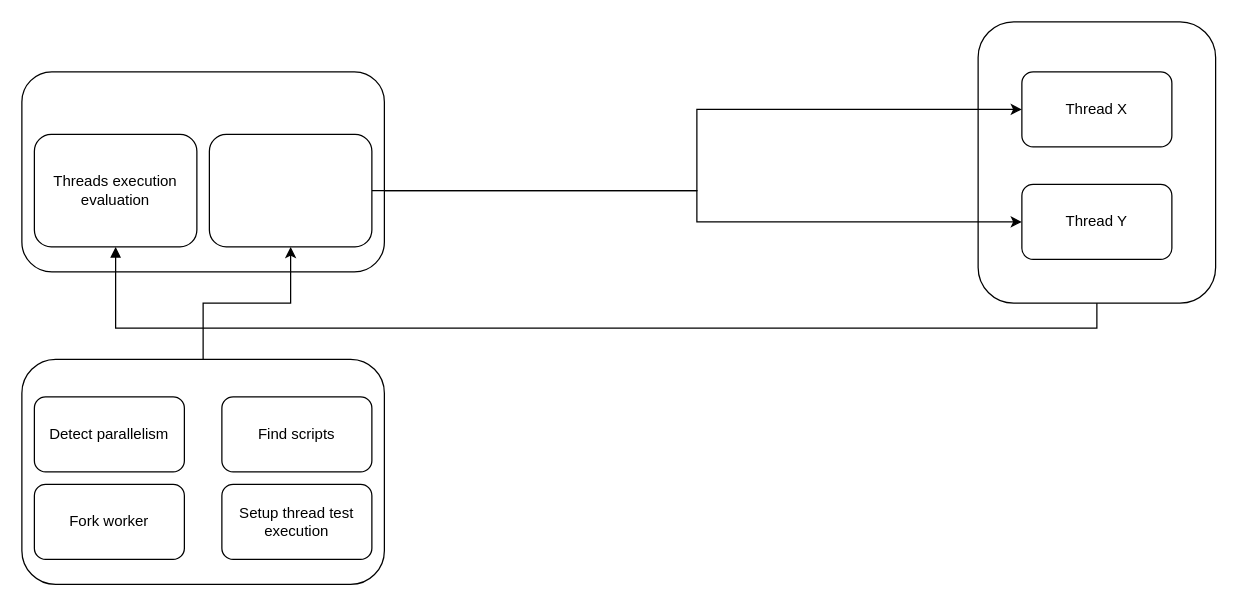
This 1238x606 diagram has some shape labels left out. The box of each missing label's shape, as (x1, y1, x2, y2) in pixels:
Node.js parent worker: (21, 71, 384, 272)
Threads setup utils: (21, 358, 384, 584)
Workers pool: (977, 21, 1216, 303)
Workers pools management: (208, 133, 372, 247)
